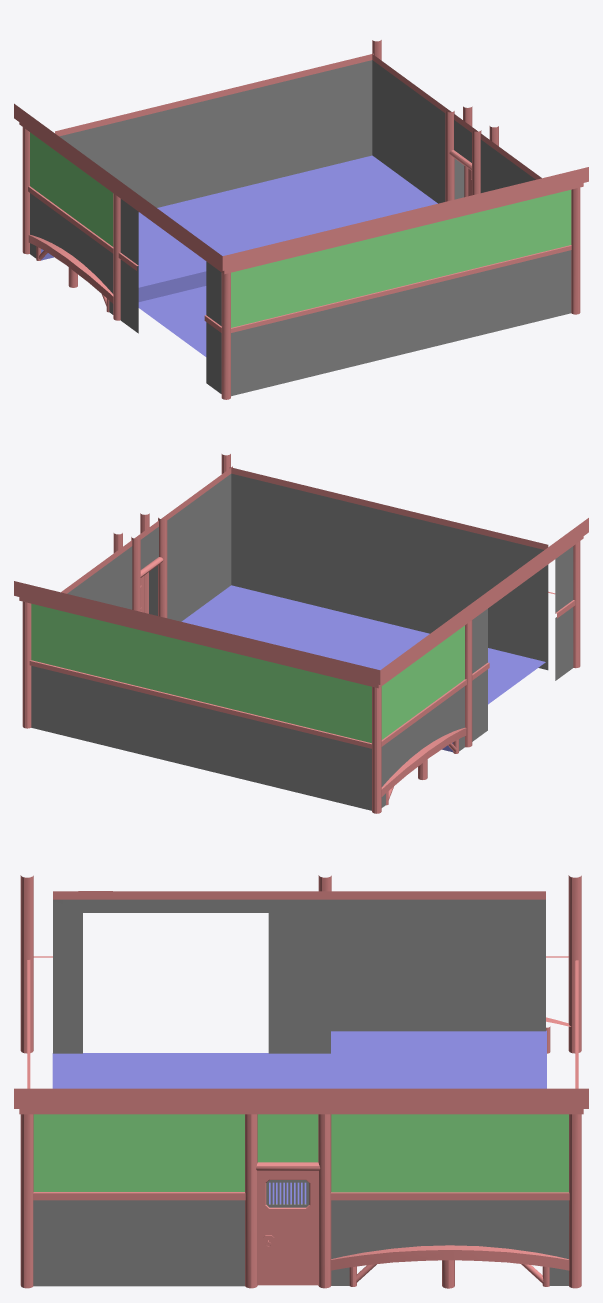
The model's file is CHN_CastleBase_Room.gltf.
The picture shows the model from 3 angles, top to bottom: view 1: azimuth 30°, elevation 25°; view 2: azimuth 150°, elevation 25°; view 3: azimuth 270°, elevation 25°; orthographic projection. The views are drawn at different scales.
Visible parts, largest first — view 1: CHN_CastleBase_Room; view 2: CHN_CastleBase_Room; view 3: CHN_CastleBase_Room.
Boxes of the visible parts, box(x1,y1,x2,y2) form: CHN_CastleBase_Room: box(14, 40, 588, 399); CHN_CastleBase_Room: box(14, 454, 588, 813); CHN_CastleBase_Room: box(14, 875, 588, 1288).
Size of the model in its own units: 37.51 by 14.44 by 37.02.
